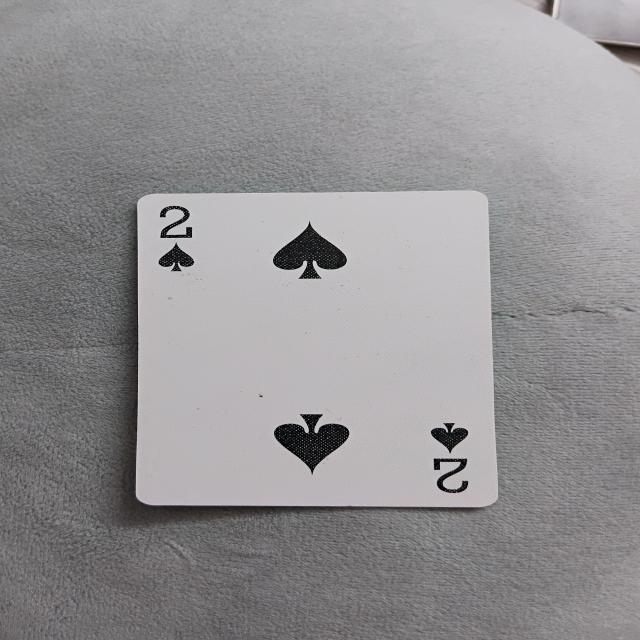2S: (148, 199, 502, 499)
